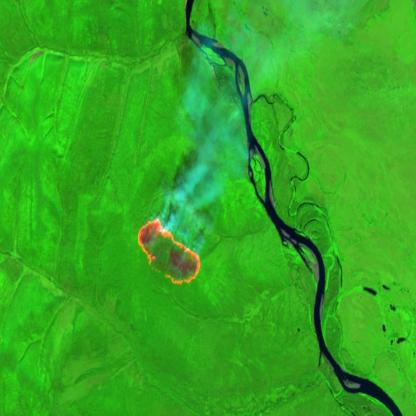fire: (136, 214, 204, 288)
